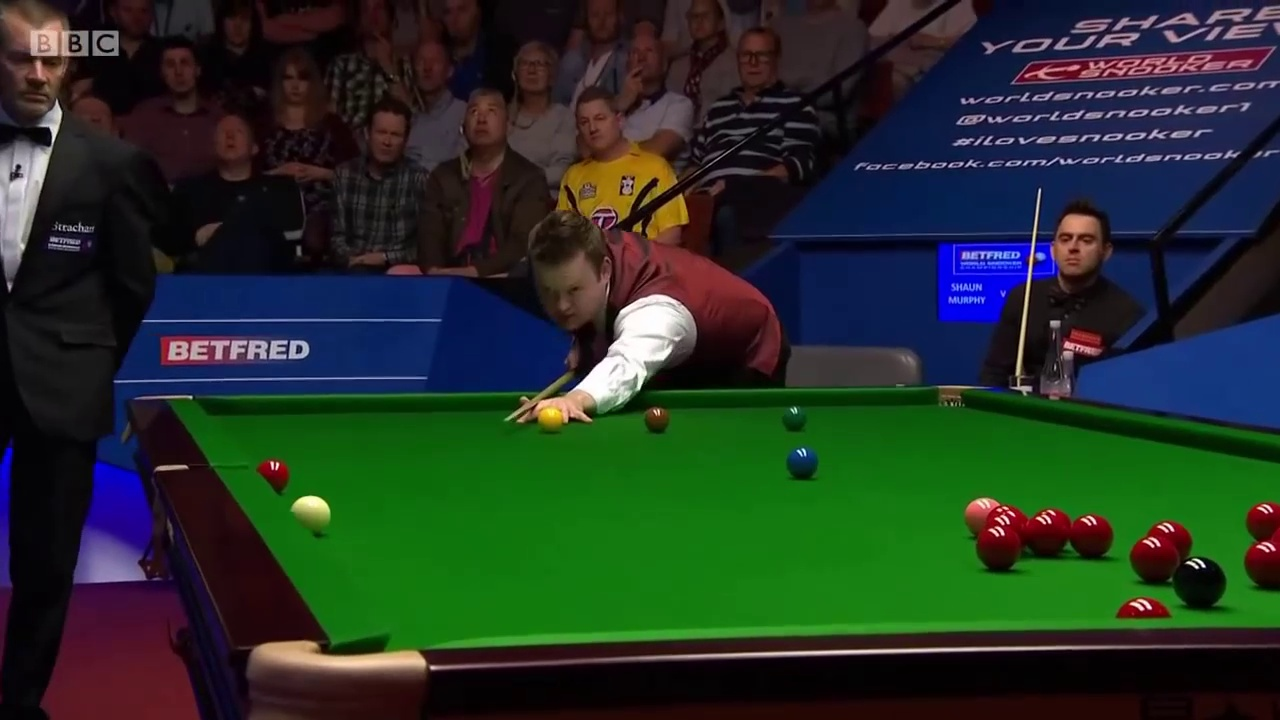black: (1175, 556, 1225, 607)
blue: (786, 444, 820, 477)
brown: (643, 403, 671, 432)
green: (784, 404, 808, 427)
red: (1130, 534, 1178, 588), (977, 528, 1023, 572), (1071, 514, 1113, 560), (1244, 540, 1280, 589), (1027, 515, 1067, 558)
white: (292, 494, 332, 522)
yellow: (540, 408, 563, 431)
